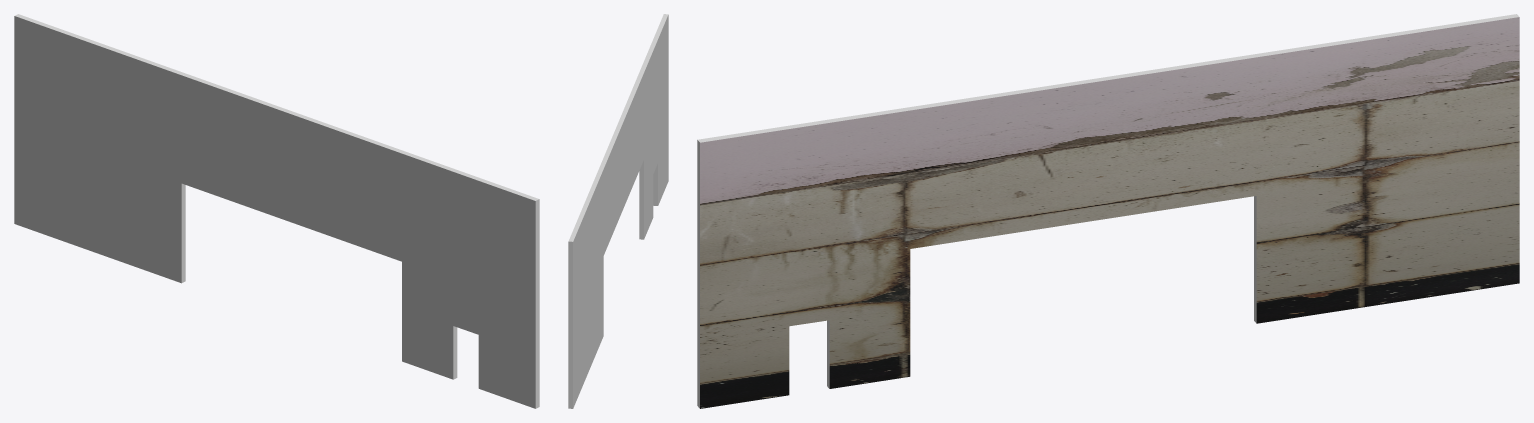
Rendered from paredes_boleteria.fbx.
3 renders of one model, left to right at view 1: azimuth 30°, elevation 25°; view 2: azimuth 150°, elevation 25°; view 3: azimuth 270°, elevation 25°, orthographic. The views are drawn at different scales.
Visible parts, largest first — view 1: Pared.018; view 2: Pared.018; view 3: Pared.018.
Boxes of the visible parts, left/top/right/bottom form: Pared.018: left=14, top=14, right=539, bottom=408; Pared.018: left=568, top=14, right=668, bottom=408; Pared.018: left=697, top=14, right=1519, bottom=408.
Bounding box in the file's own units: 884 × 853 × 2385.
2 materials, 1 textured.
